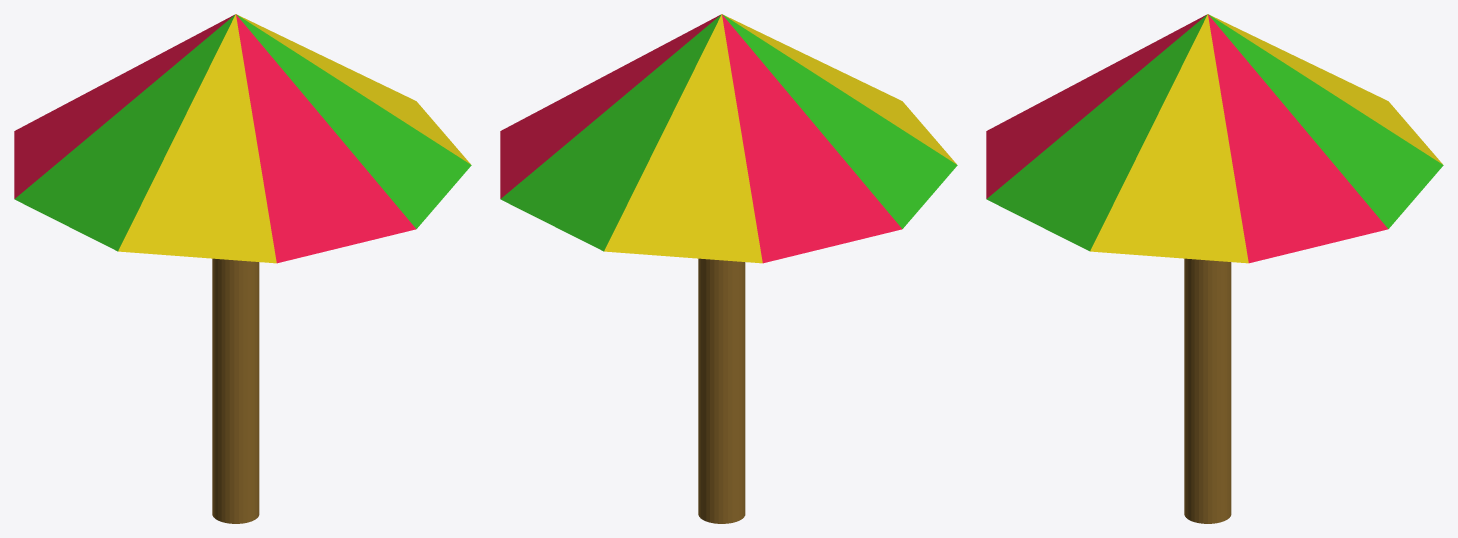
Rendered from umbrella.glb.
3 views of the same model, side by side, from view 1: azimuth 30°, elevation 25°; view 2: azimuth 150°, elevation 25°; view 3: azimuth 270°, elevation 25° (orthographic).
Parts seen in each view (by area): view 1: Cone, Cylinder; view 2: Cone, Cylinder; view 3: Cone, Cylinder.
Part boxes in pixels (<box>): Cone: <box>14,14,471,263</box>; Cylinder: <box>212,258,259,523</box>; Cone: <box>500,14,957,263</box>; Cylinder: <box>698,258,745,523</box>; Cone: <box>986,14,1443,263</box>; Cylinder: <box>1184,258,1231,523</box>.
Bounding box in the file's own units: 1.97 × 2.34 × 1.94.
